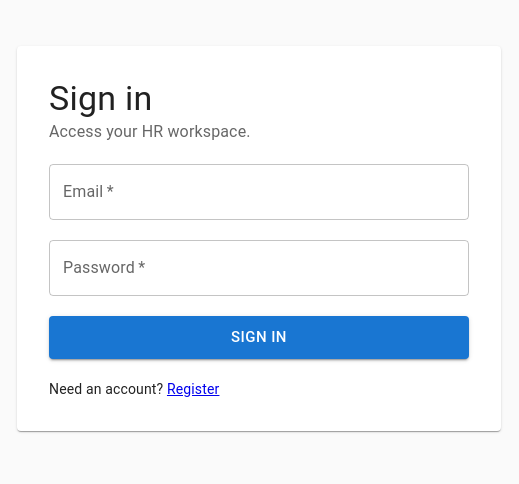
Test: login form shows the backend error for wrong credentials
This screenshot has width=519, height=484.
Type "hr@example.com" into the field labelled "Email *".
click(259, 192); type("hr@example.com")  # box left=49, top=164, right=469, bottom=220
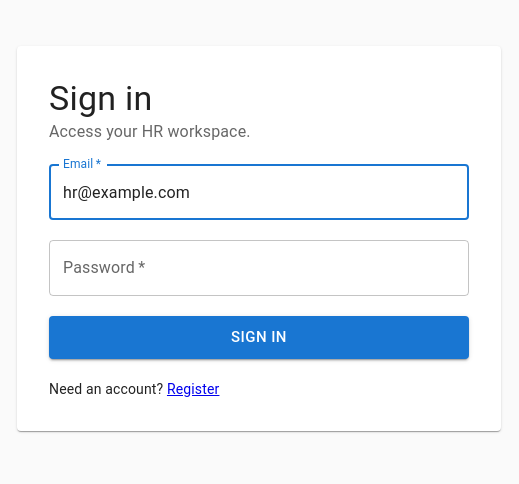
Type "wrong-password" into the password field labelled "Password *".
click(259, 268); type("wrong-password")  # box left=49, top=240, right=469, bottom=296
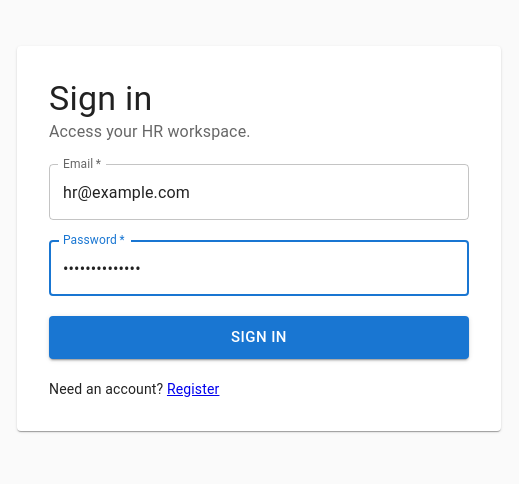
Click the button "Sign in".
click(259, 338)  # box left=49, top=316, right=469, bottom=359
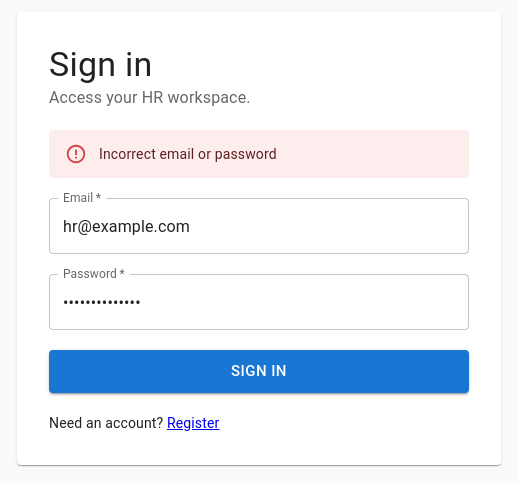
Expected: the text "Incorrect email or password" is shown, left=99, top=146, right=277, bottom=162
